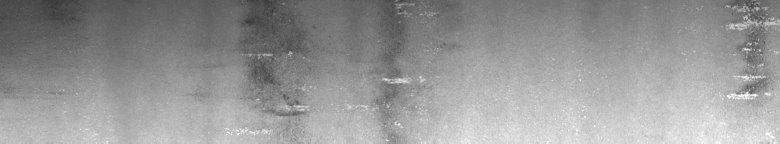hc: (716, 4, 776, 106)
